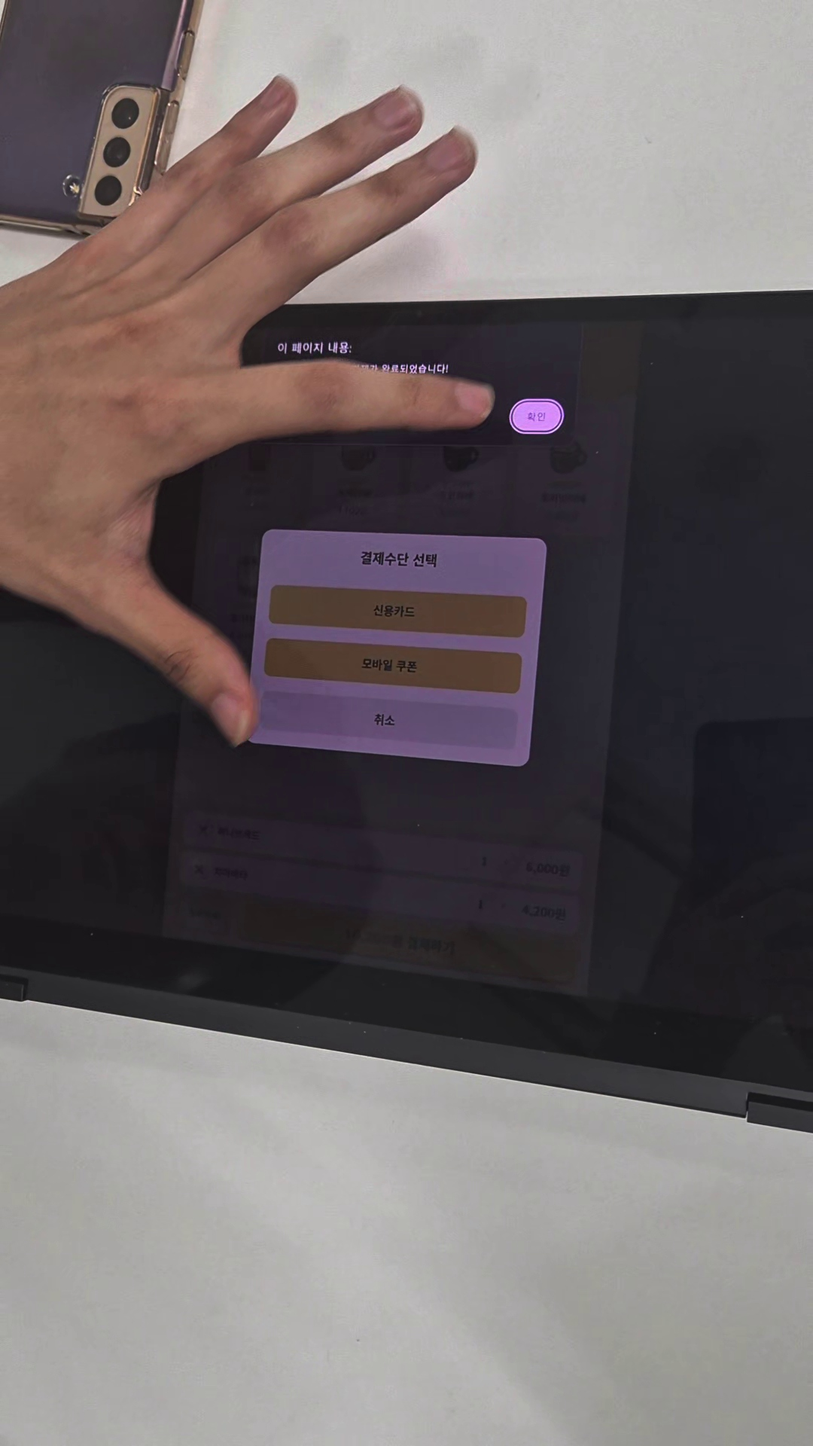action_button: (240, 901, 583, 986), (259, 689, 519, 749), (269, 586, 527, 639), (264, 639, 522, 692), (180, 896, 229, 933)
cart_item: (182, 849, 582, 931), (183, 809, 584, 889)
popup_modal: (244, 529, 547, 768)
